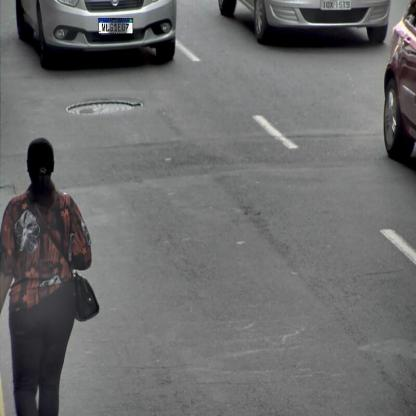PlacaM: (98, 18, 133, 34)
